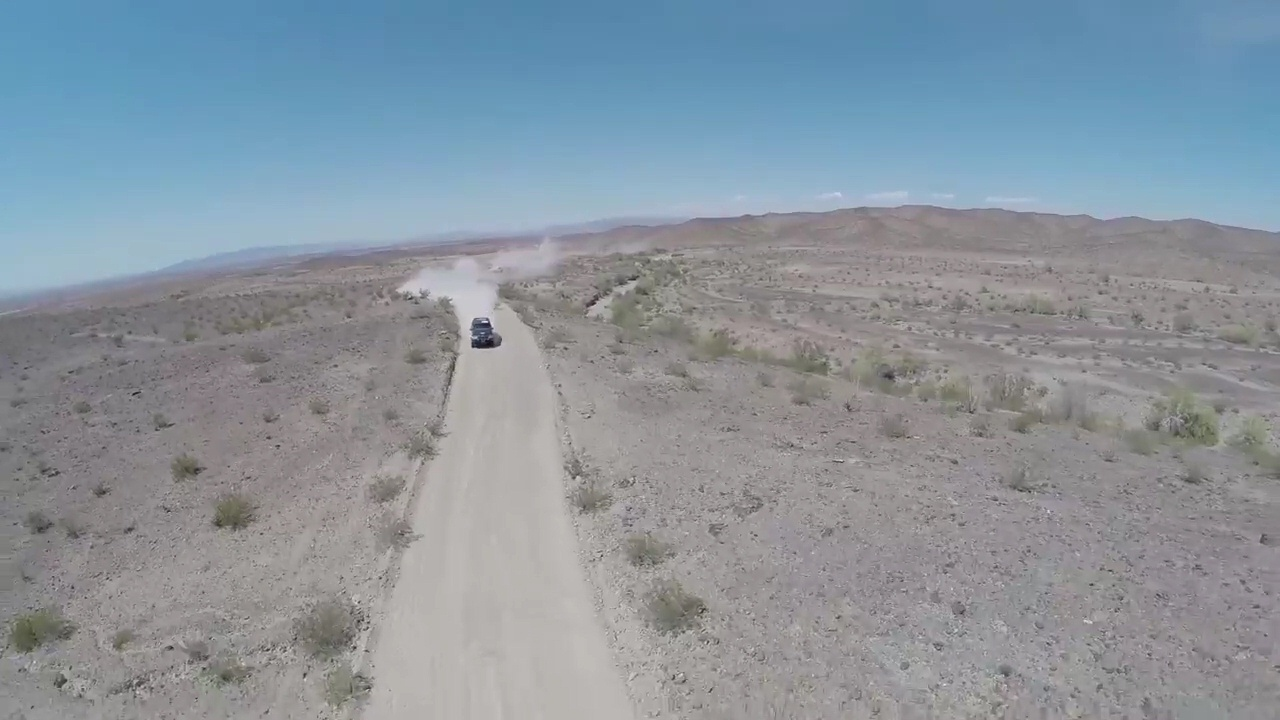araba: (468, 316, 493, 347)
